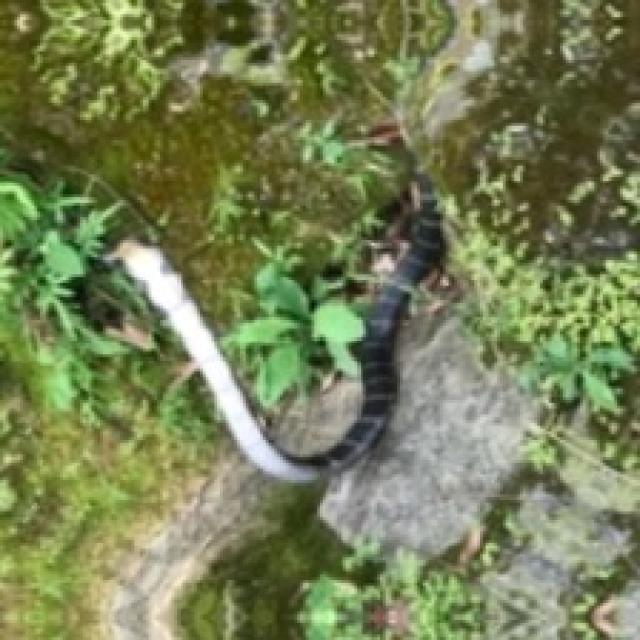king cobra: (106, 171, 443, 480), (106, 171, 440, 480)
